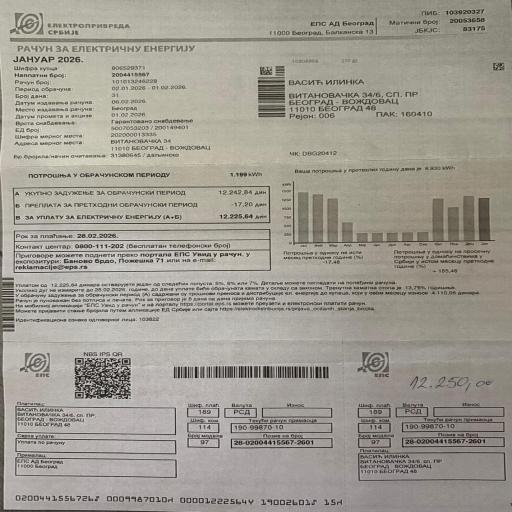racun_za_struju: (7, 166, 272, 240)
